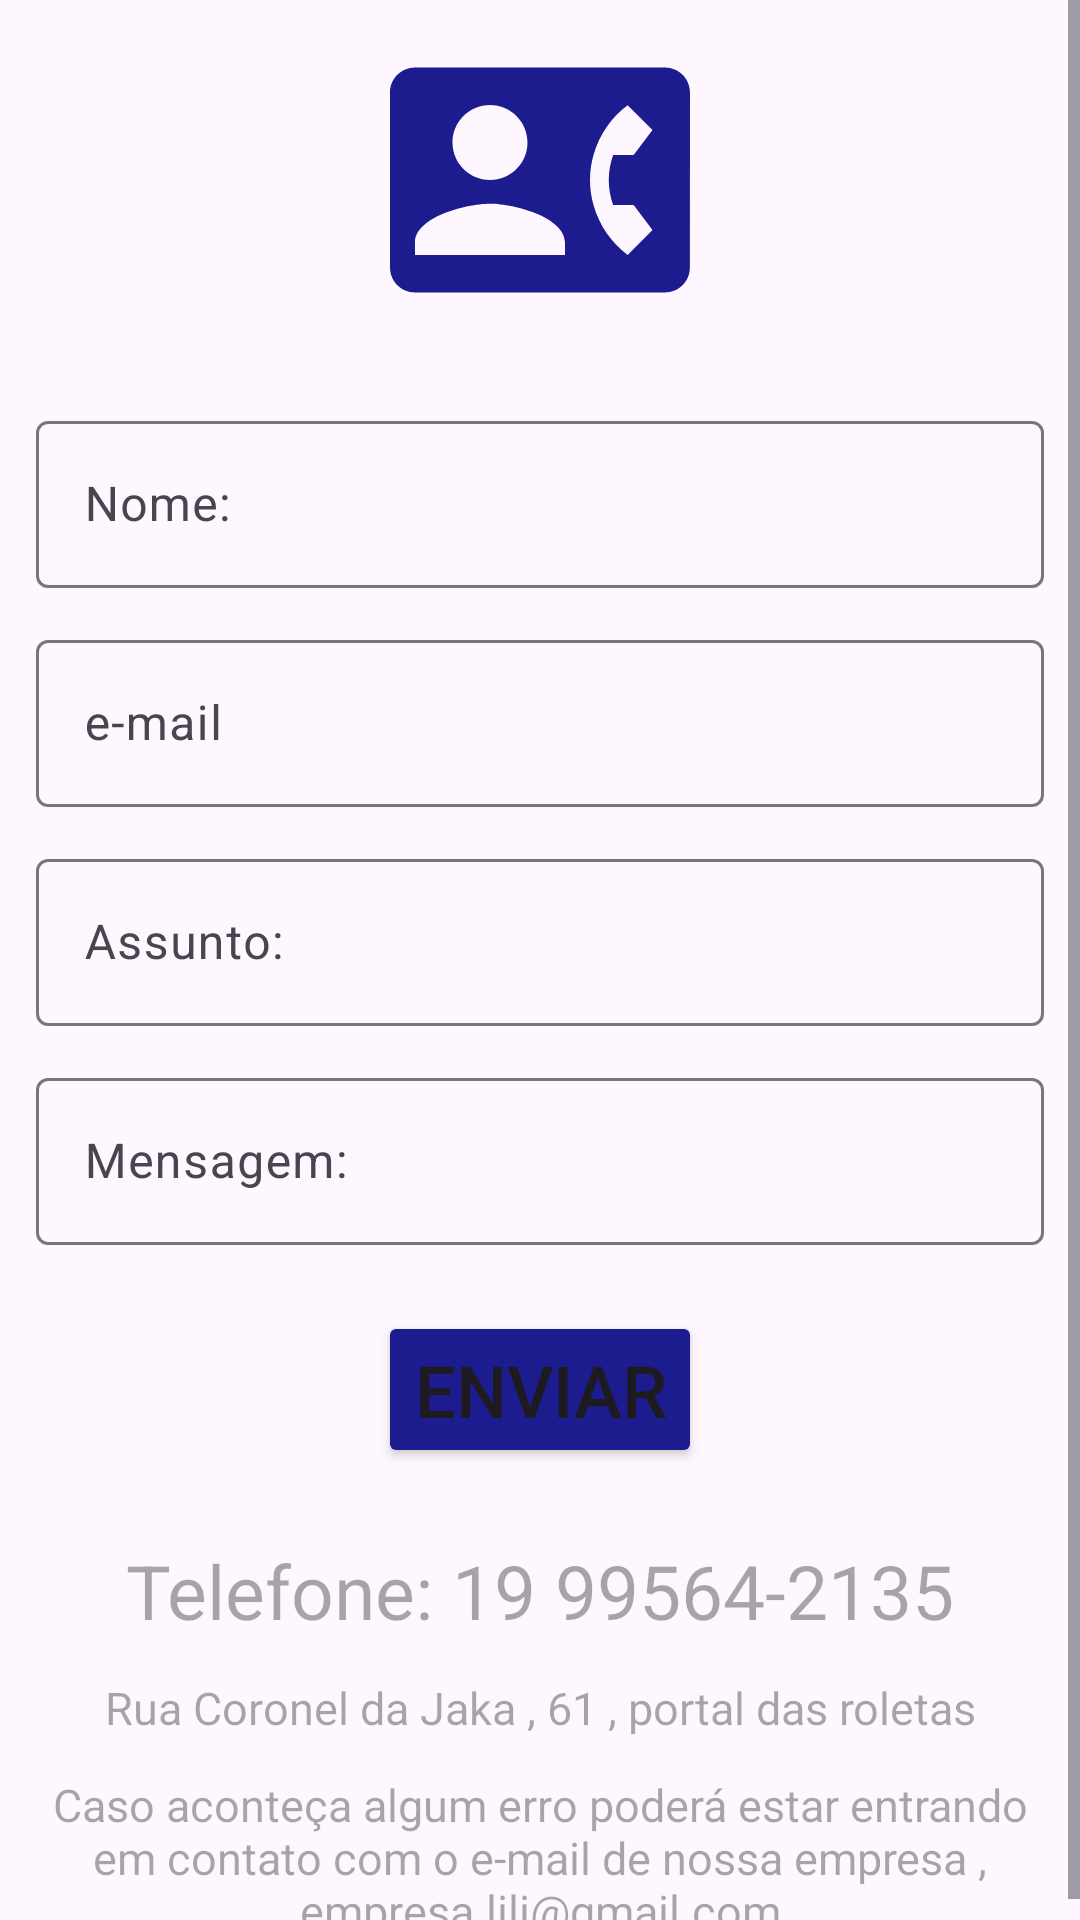

Icon bounding boxes for this 1080 x 1920 phone screenshot, format box(x1, y1, x2, y2):
fale: box(390, 67, 690, 293)
